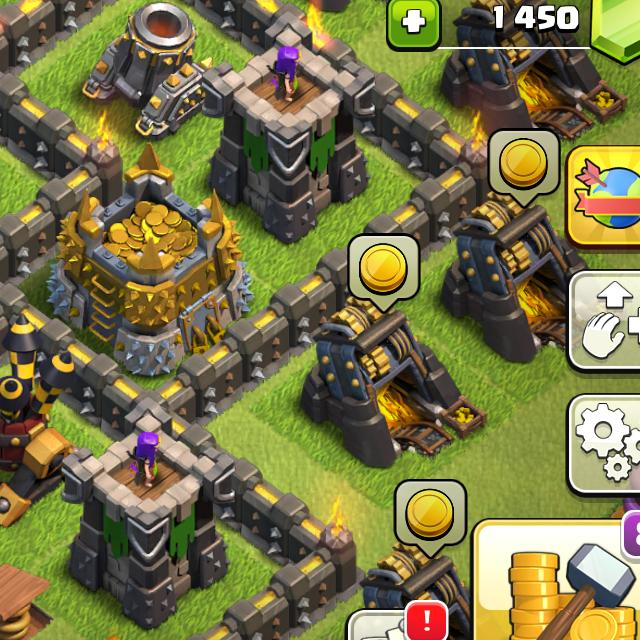coin: (351, 236, 421, 312), (491, 130, 559, 204)
